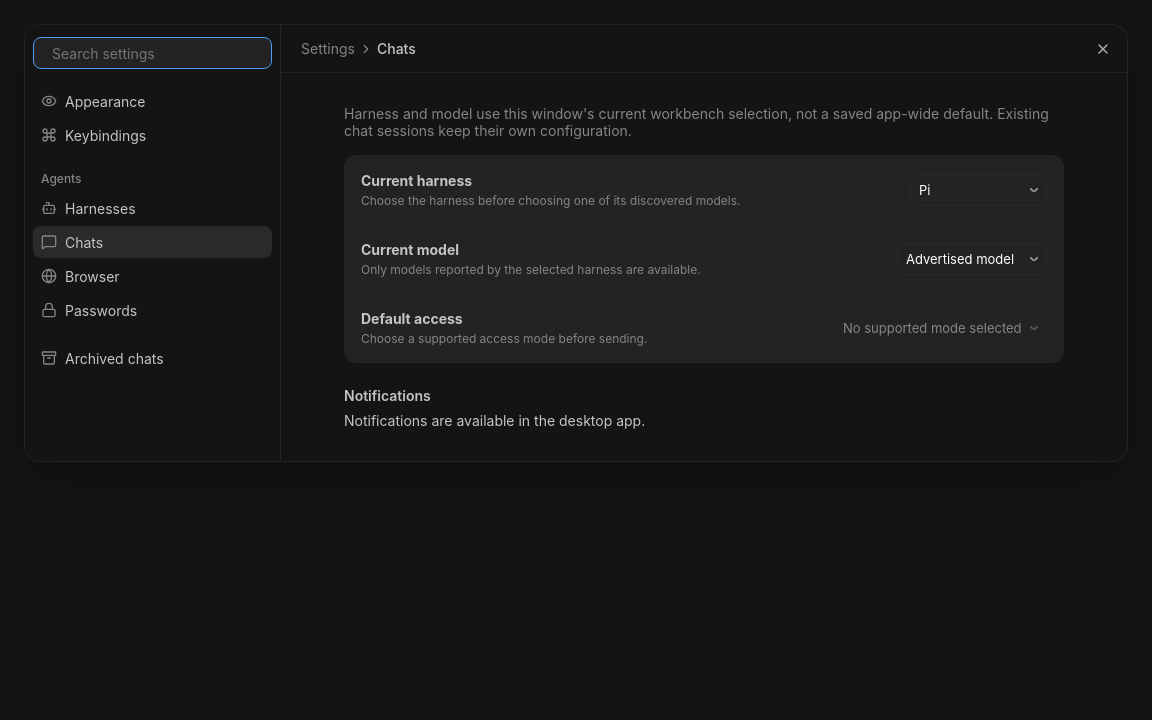
states each harness's install state once and puts the sign-in command before its follow-up step
Step 1. Click the button "Harnesses" → coordinates (152, 208), box [33, 192, 272, 224]
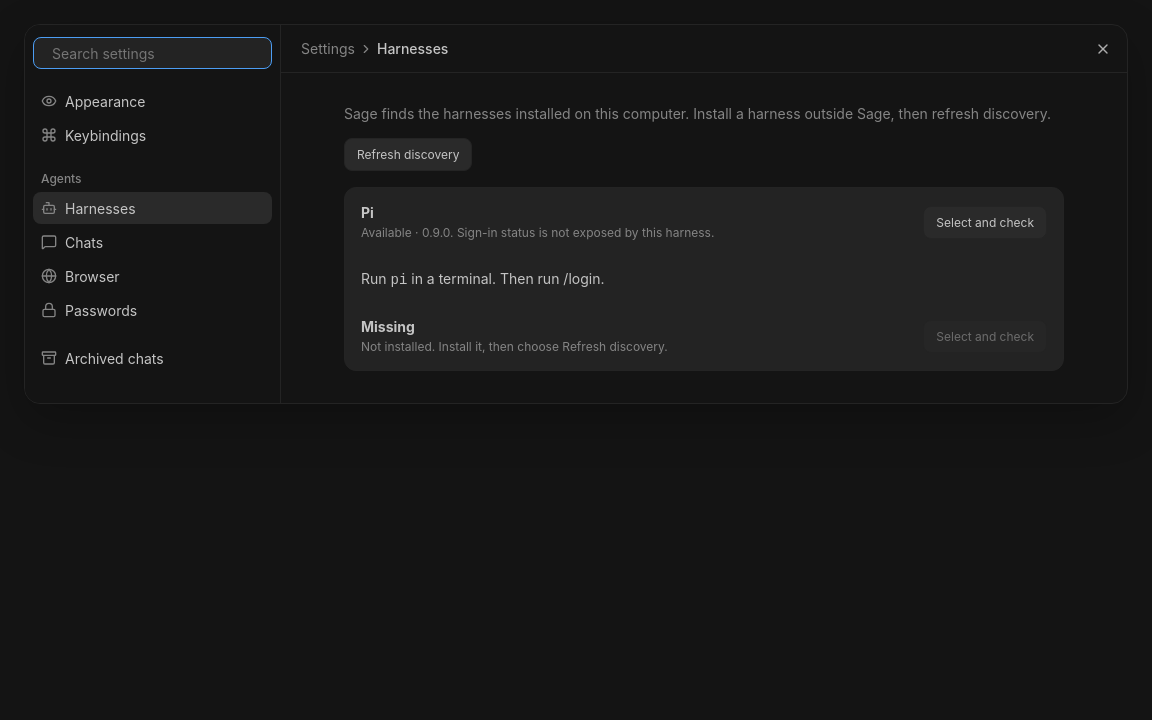
Expected: the text "Available · 0.9.0. Sign-in status is not exposed by this harness." is shown, [361, 225, 714, 240]
Expected: the text "Not installed. Install it, then choose Refresh discovery." is shown, [361, 339, 668, 354]
